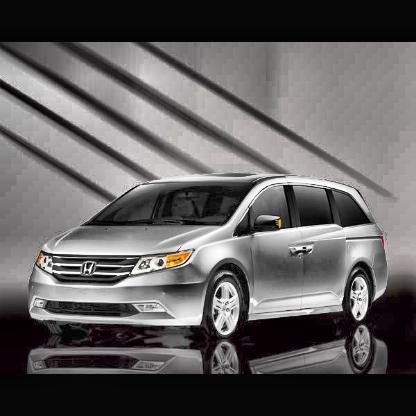Honda Odyssey Minivan 2012: (28, 176, 389, 342)
